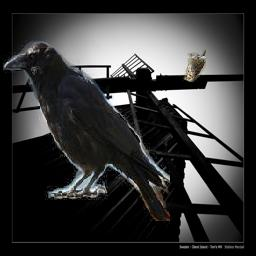Crow: (4, 41, 171, 222)
Sparrow: (184, 48, 207, 82)
